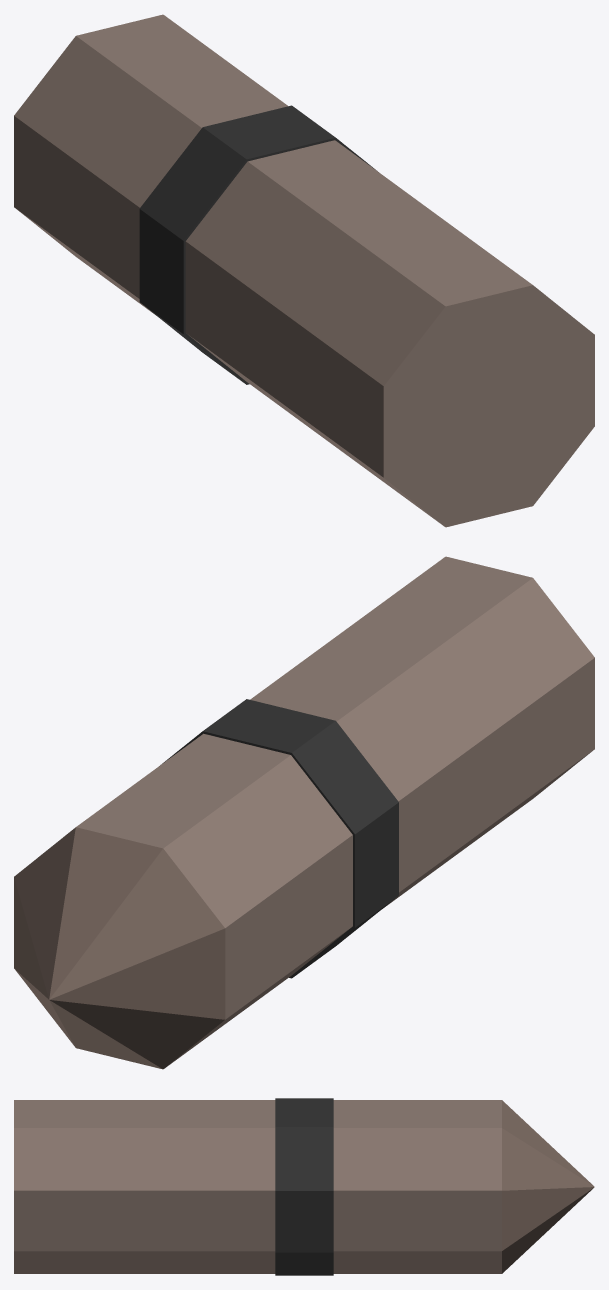
Rendered from ce_ammo_mechcells_mech_a.obj.
The picture shows the model from 3 angles, top to bottom: view 1: azimuth 30°, elevation 25°; view 2: azimuth 150°, elevation 25°; view 3: azimuth 270°, elevation 25°; orthographic projection. The views are drawn at different scales.
Visible parts, largest first — view 1: ce_ammo_mechcells_mech_a_0, ce_ammo_mechcells_mech_a_2, ce_ammo_mechcells_mech_a_1; view 2: ce_ammo_mechcells_mech_a_0, ce_ammo_mechcells_mech_a_2, ce_ammo_mechcells_mech_a_3, ce_ammo_mechcells_mech_a_1; view 3: ce_ammo_mechcells_mech_a_0, ce_ammo_mechcells_mech_a_2, ce_ammo_mechcells_mech_a_1, ce_ammo_mechcells_mech_a_3.
Boxes of the visible parts, x1,y1,x2,y2 form: ce_ammo_mechcells_mech_a_0: [185, 140, 594, 527]; ce_ammo_mechcells_mech_a_2: [14, 14, 288, 315]; ce_ammo_mechcells_mech_a_1: [139, 105, 376, 384]; ce_ammo_mechcells_mech_a_0: [250, 556, 594, 908]; ce_ammo_mechcells_mech_a_2: [76, 733, 352, 1066]; ce_ammo_mechcells_mech_a_3: [14, 827, 225, 1069]; ce_ammo_mechcells_mech_a_1: [162, 699, 398, 978]; ce_ammo_mechcells_mech_a_0: [14, 1100, 275, 1273]; ce_ammo_mechcells_mech_a_2: [333, 1100, 501, 1273]; ce_ammo_mechcells_mech_a_1: [275, 1098, 333, 1275]; ce_ammo_mechcells_mech_a_3: [502, 1100, 594, 1273].
Size of the model in its own units: 0.1696 by 0.1696 by 0.6.
